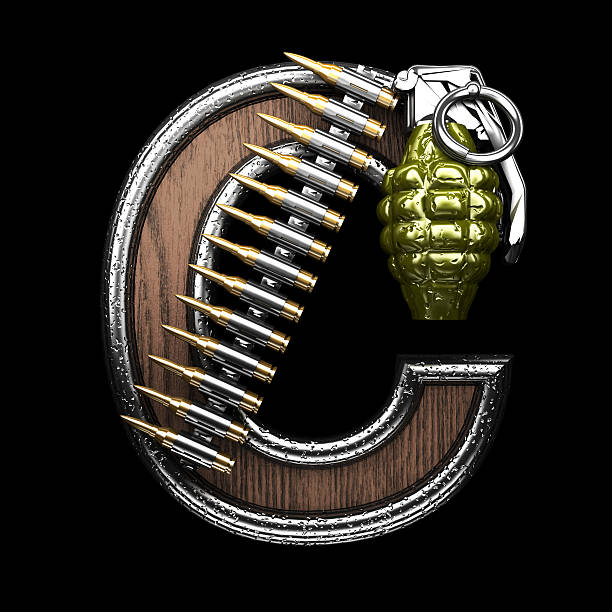e1: (377, 60, 529, 324)
